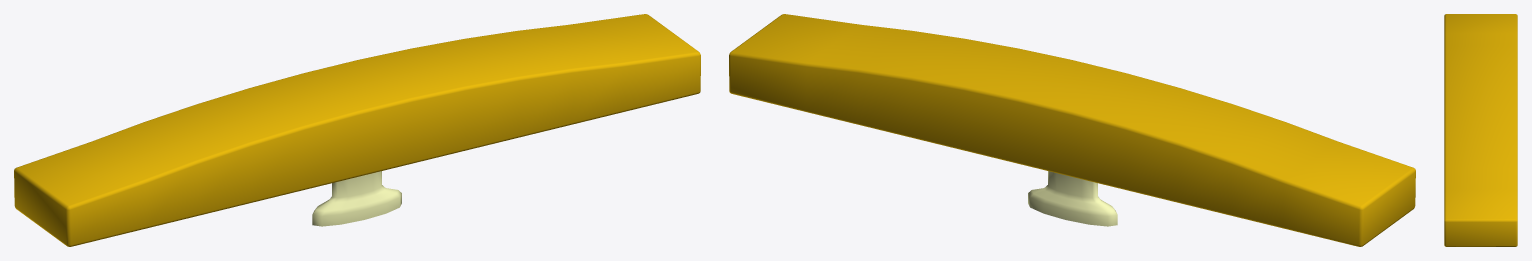
Rendered from PaddleYellow.fbx.
3 renders of one model, left to right at view 1: azimuth 30°, elevation 25°; view 2: azimuth 150°, elevation 25°; view 3: azimuth 270°, elevation 25°, orthographic. The views are drawn at different scales.
Parts seen in each view (by area): view 1: paddle.003, paddleholder.003; view 2: paddle.003, paddleholder.003; view 3: paddle.003.
Part boxes in pixels (x1,y1,x2,y2): paddle.003: [14, 14, 700, 246]; paddleholder.003: [312, 171, 401, 226]; paddle.003: [729, 14, 1415, 246]; paddleholder.003: [1028, 171, 1117, 226]; paddle.003: [1444, 14, 1517, 246].
Size of the model in its own units: 42.8 by 8.29 by 6.43.
